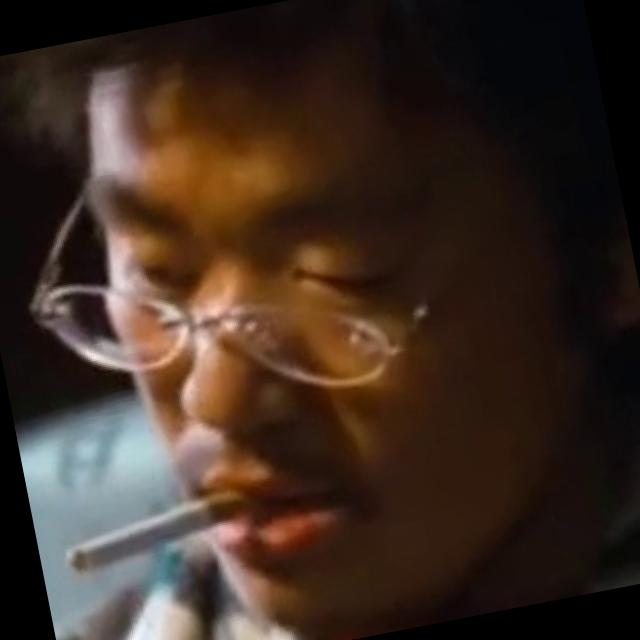cigarette: (54, 475, 270, 585)
